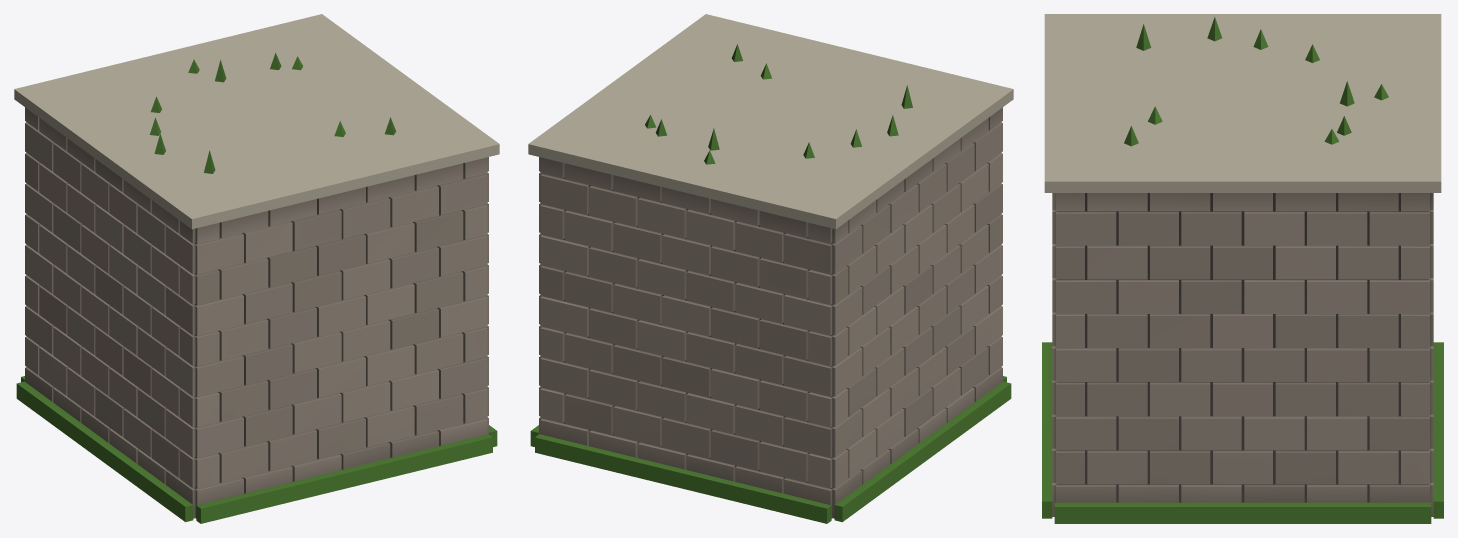
File: m_ledge.glb
3 renders of one model, left to right at view 1: azimuth 30°, elevation 25°; view 2: azimuth 150°, elevation 25°; view 3: azimuth 270°, elevation 25°, orthographic. The views are drawn at different scales.
Parts seen in each view (by area): view 1: m_ledge; view 2: m_ledge; view 3: m_ledge.
Boxes of the visible parts, box(x1,y1,x2,y2) form: m_ledge: box(14, 14, 499, 523); m_ledge: box(528, 14, 1013, 523); m_ledge: box(1042, 14, 1443, 523).
Size of the model in its own units: 3.2 by 3.21 by 3.2.
